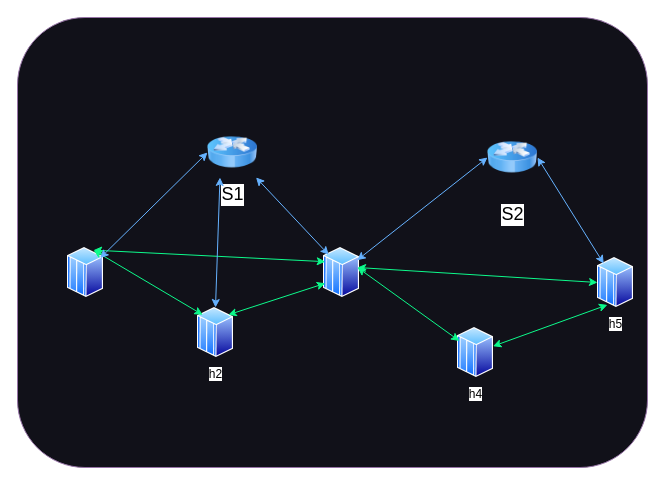
Image size: 665x485. Some labels were removed from this diagram. The shapes that lost their labels are listed below. From the top down, each one's centre as x and y in pixels, then its label:
At [85,272]: "h1".
At [341,272]: "h3".
